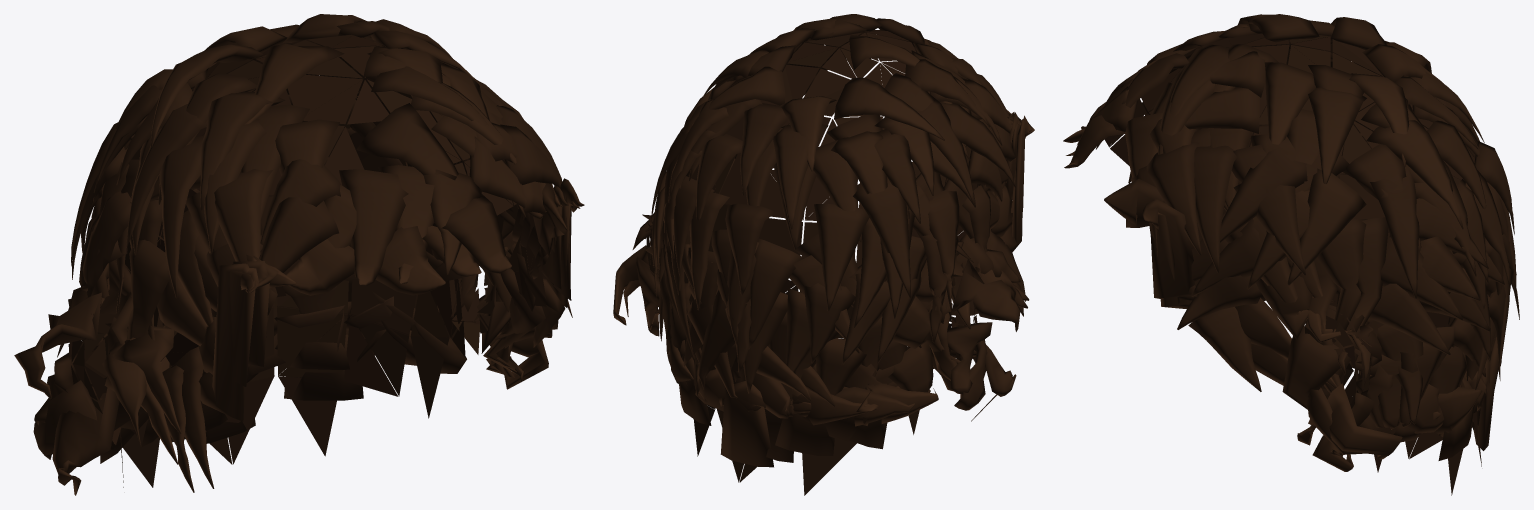
File: kopf.haar.zerzaust.glb
The picture shows the model from 3 angles, left to right: view 1: azimuth 30°, elevation 25°; view 2: azimuth 150°, elevation 25°; view 3: azimuth 270°, elevation 25°; orthographic projection. The views are drawn at different scales.
Visible parts, largest first — view 1: haar; view 2: haar; view 3: haar.
Boxes of the visible parts, box(x1,y1,x2,y2) form: haar: box(14, 14, 584, 495); haar: box(613, 14, 1034, 495); haar: box(1063, 14, 1519, 495).
Size of the model in its own units: 0.2388 by 0.2203 by 0.2135.
